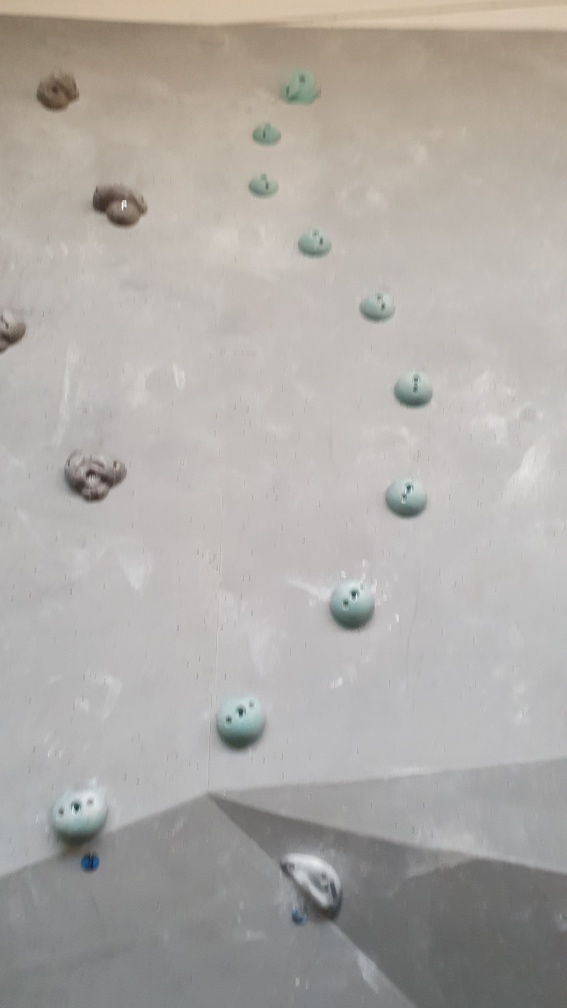Hand Start: (73, 848, 105, 880)
Jug: (84, 175, 161, 235), (61, 449, 131, 502)
Sloper: (209, 687, 273, 756), (53, 782, 111, 850), (326, 571, 382, 630), (390, 366, 444, 413), (355, 282, 403, 329), (382, 473, 431, 519), (297, 226, 335, 264), (251, 118, 288, 148), (246, 170, 282, 200)
